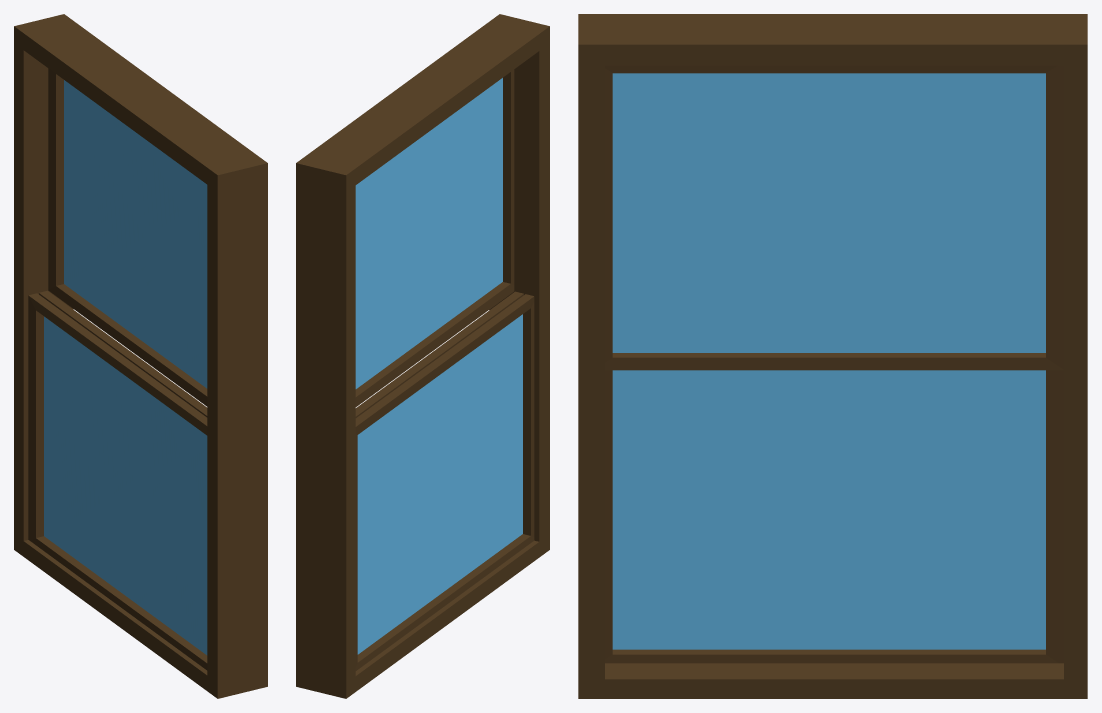
The model's file is window.fbx.
3 views of the same model, side by side, from view 1: azimuth 30°, elevation 25°; view 2: azimuth 150°, elevation 25°; view 3: azimuth 270°, elevation 25° (orthographic). The views are drawn at different scales.
Parts seen in each view (by area): view 1: Cube, Plane.001, Plane.005, Plane, Plane.004, Plane.003; view 2: Cube, Plane.001, Plane.005, Plane, Plane.004, Plane.003; view 3: Plane.001, Plane.005, Cube, Plane.006, Plane.003.
Boxes of the visible parts, x1=… form: Cube: x1=14, y1=14, x2=267, y2=698; Plane.001: x1=44, y1=316, x2=207, y2=655; Plane.005: x1=64, y1=80, x2=207, y2=388; Plane: x1=28, y1=293, x2=207, y2=670; Plane.004: x1=48, y1=68, x2=207, y2=406; Plane.003: x1=39, y1=290, x2=207, y2=417; Cube: x1=296, y1=14, x2=549, y2=698; Plane.001: x1=357, y1=314, x2=522, y2=654; Plane.005: x1=355, y1=78, x2=502, y2=388; Plane: x1=355, y1=294, x2=534, y2=670; Plane.004: x1=355, y1=69, x2=514, y2=406; Plane.003: x1=355, y1=291, x2=523, y2=417; Plane.001: x1=612, y1=370, x2=1045, y2=649; Plane.005: x1=612, y1=73, x2=1045, y2=352; Cube: x1=578, y1=14, x2=1087, y2=698; Plane.006: x1=605, y1=65, x2=1063, y2=370; Plane.003: x1=605, y1=370, x2=1063, y2=663.
Bounding box in the file's own units: 46.08 × 460 × 324.
